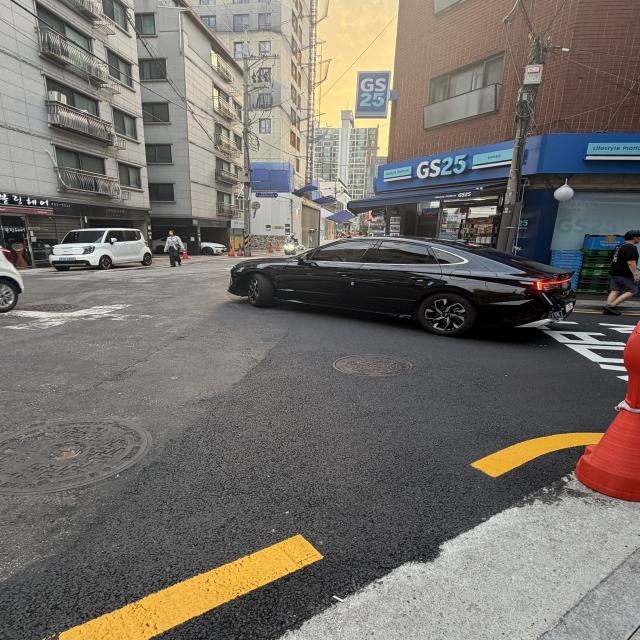car: (195, 220, 600, 361), (45, 216, 158, 280)
